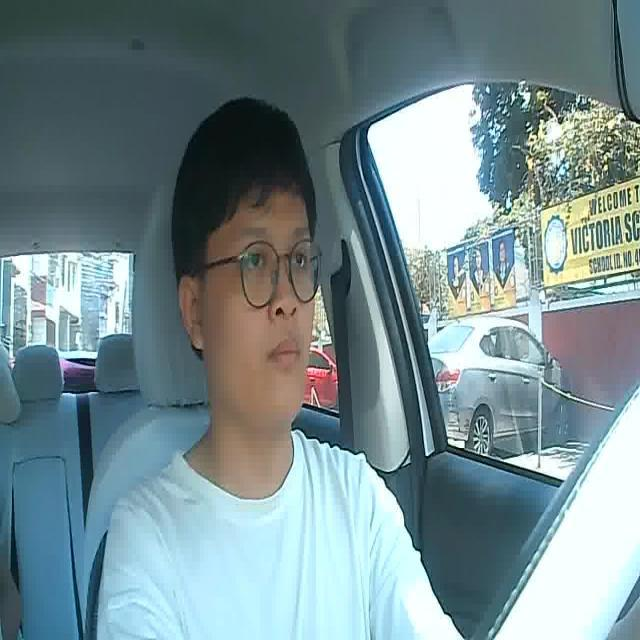Attentive: (174, 105, 320, 422)
Eye-Open: (238, 250, 270, 276), (290, 250, 312, 273)
Normal: (266, 337, 302, 372)
